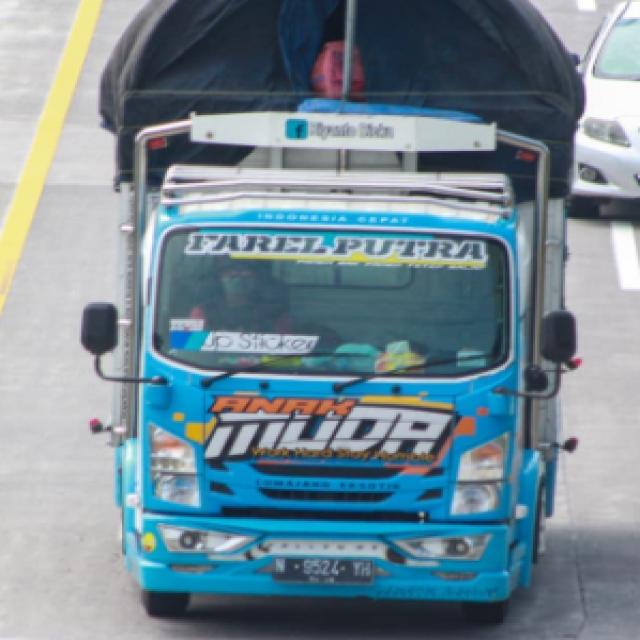Truck: (86, 0, 587, 612)
